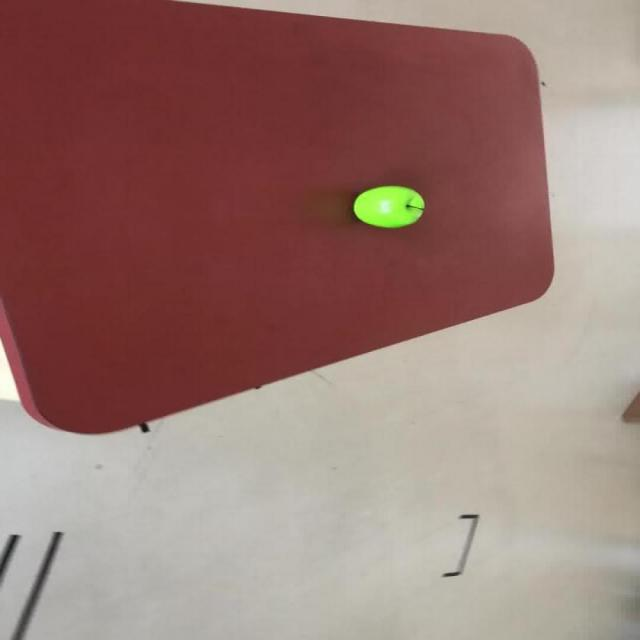Apple: (351, 185, 424, 228)
